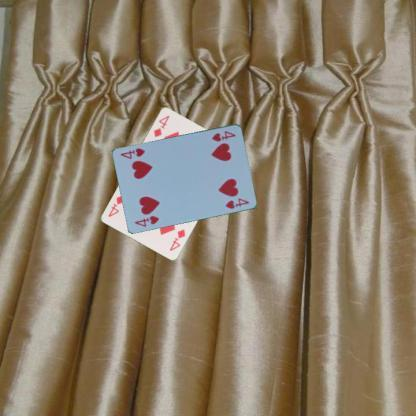4d: (150, 113, 171, 138), (167, 226, 187, 251)
4h: (132, 212, 161, 228), (209, 128, 236, 143)
